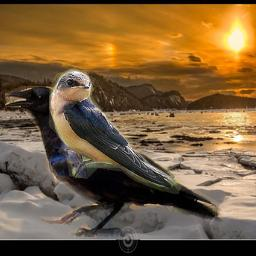Crow: (5, 86, 223, 237)
Swallow: (49, 64, 185, 194)
